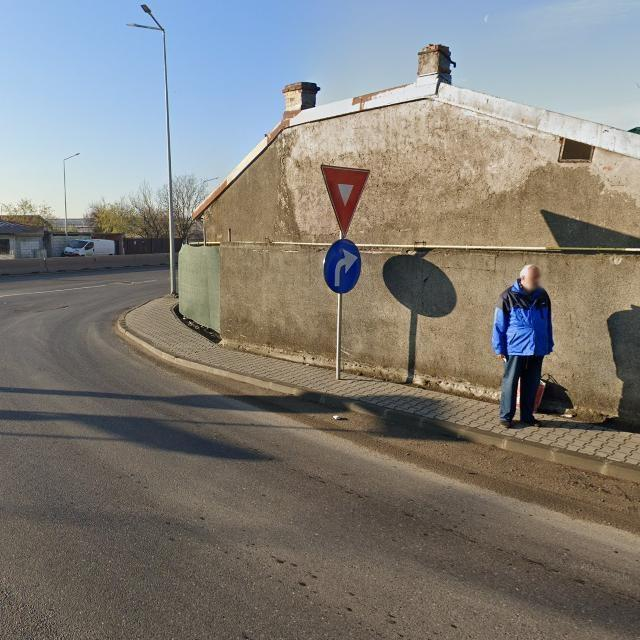prio_give_way: (318, 165, 371, 240)
